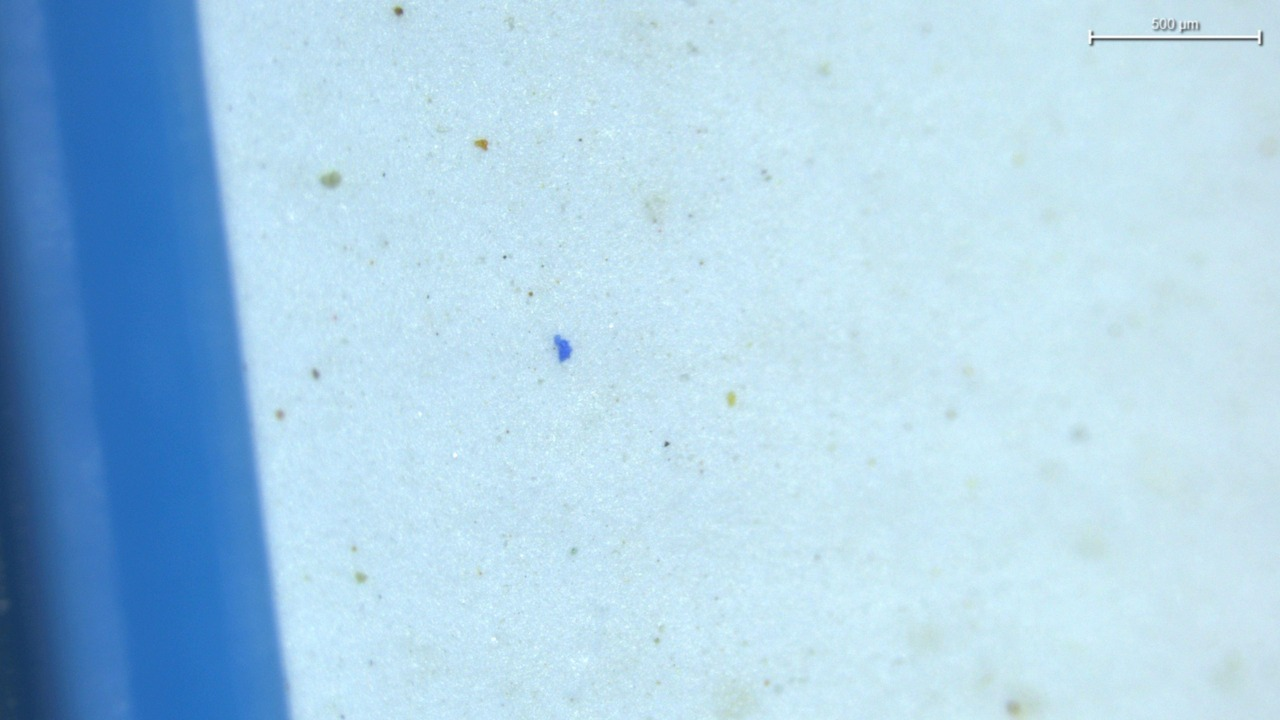microplastic_fragment: (554, 335, 572, 362)
